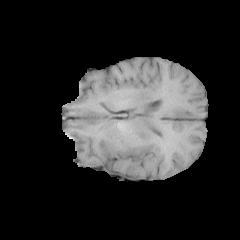glioma: (99, 128, 152, 169)
